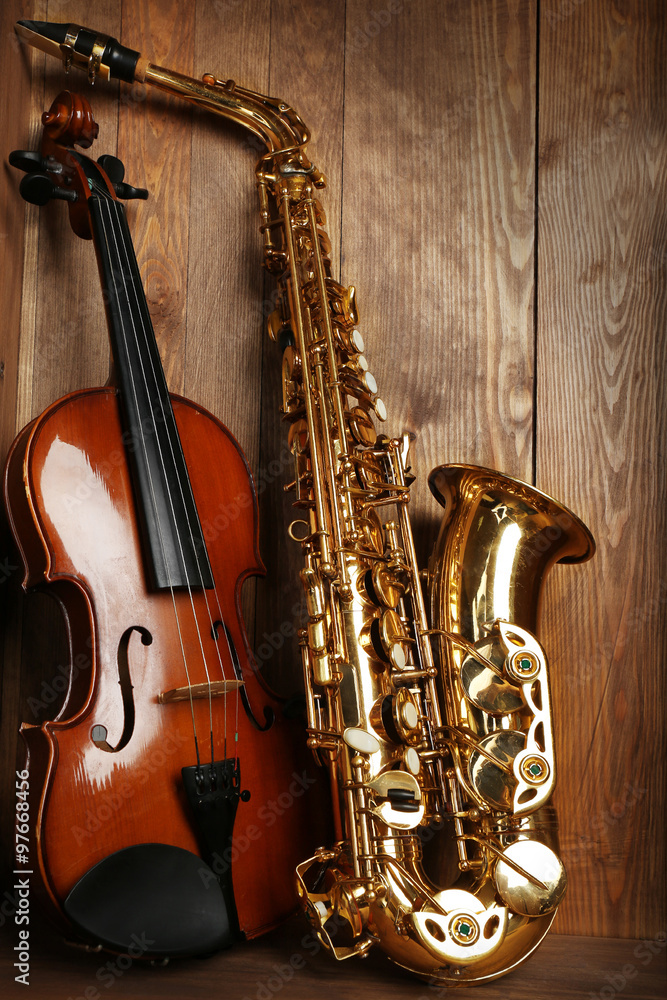Saxophone: (61, 1, 604, 975)
Violin: (1, 69, 360, 974)
